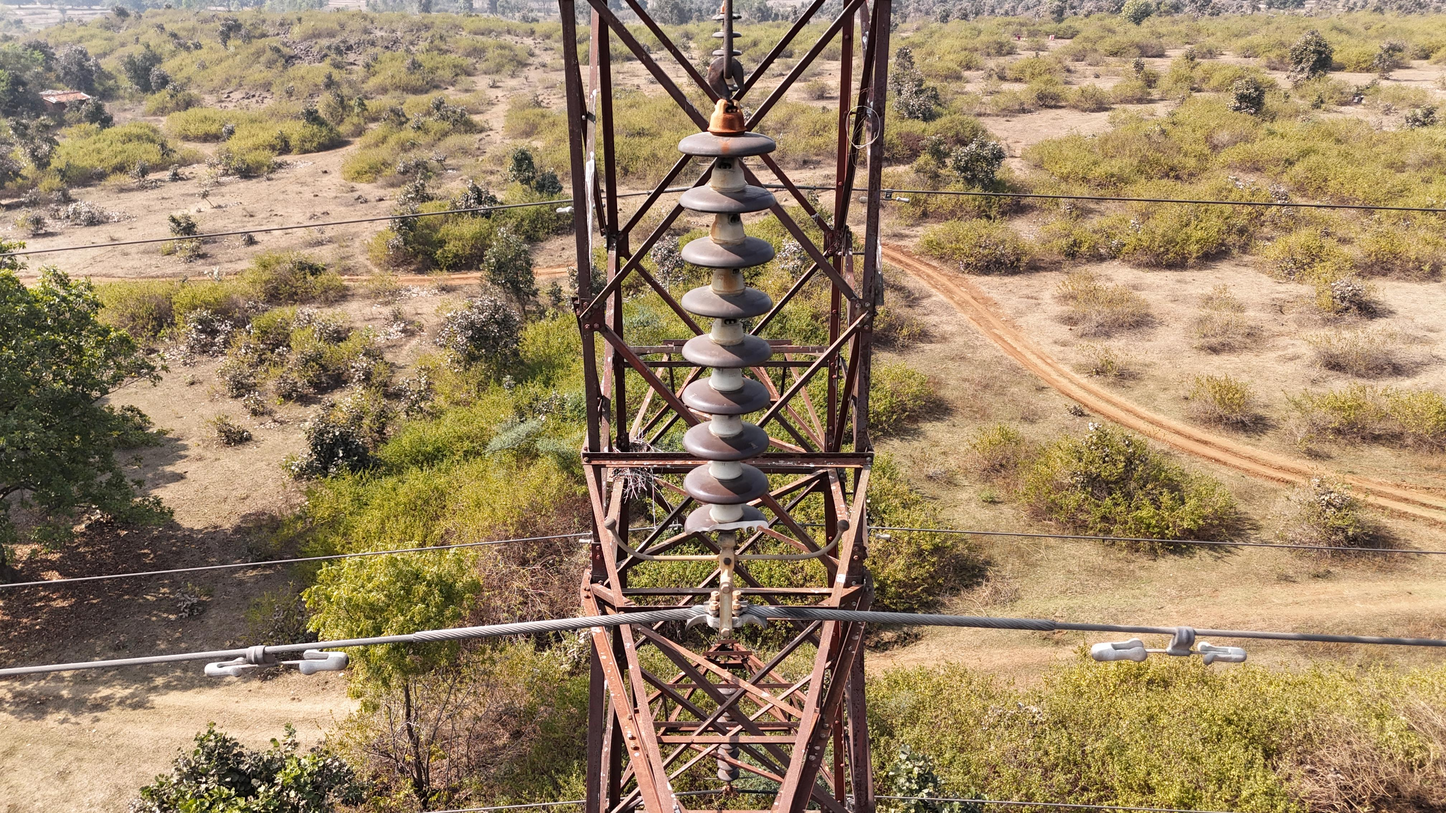broken_insulator: (684, 505, 769, 543)
